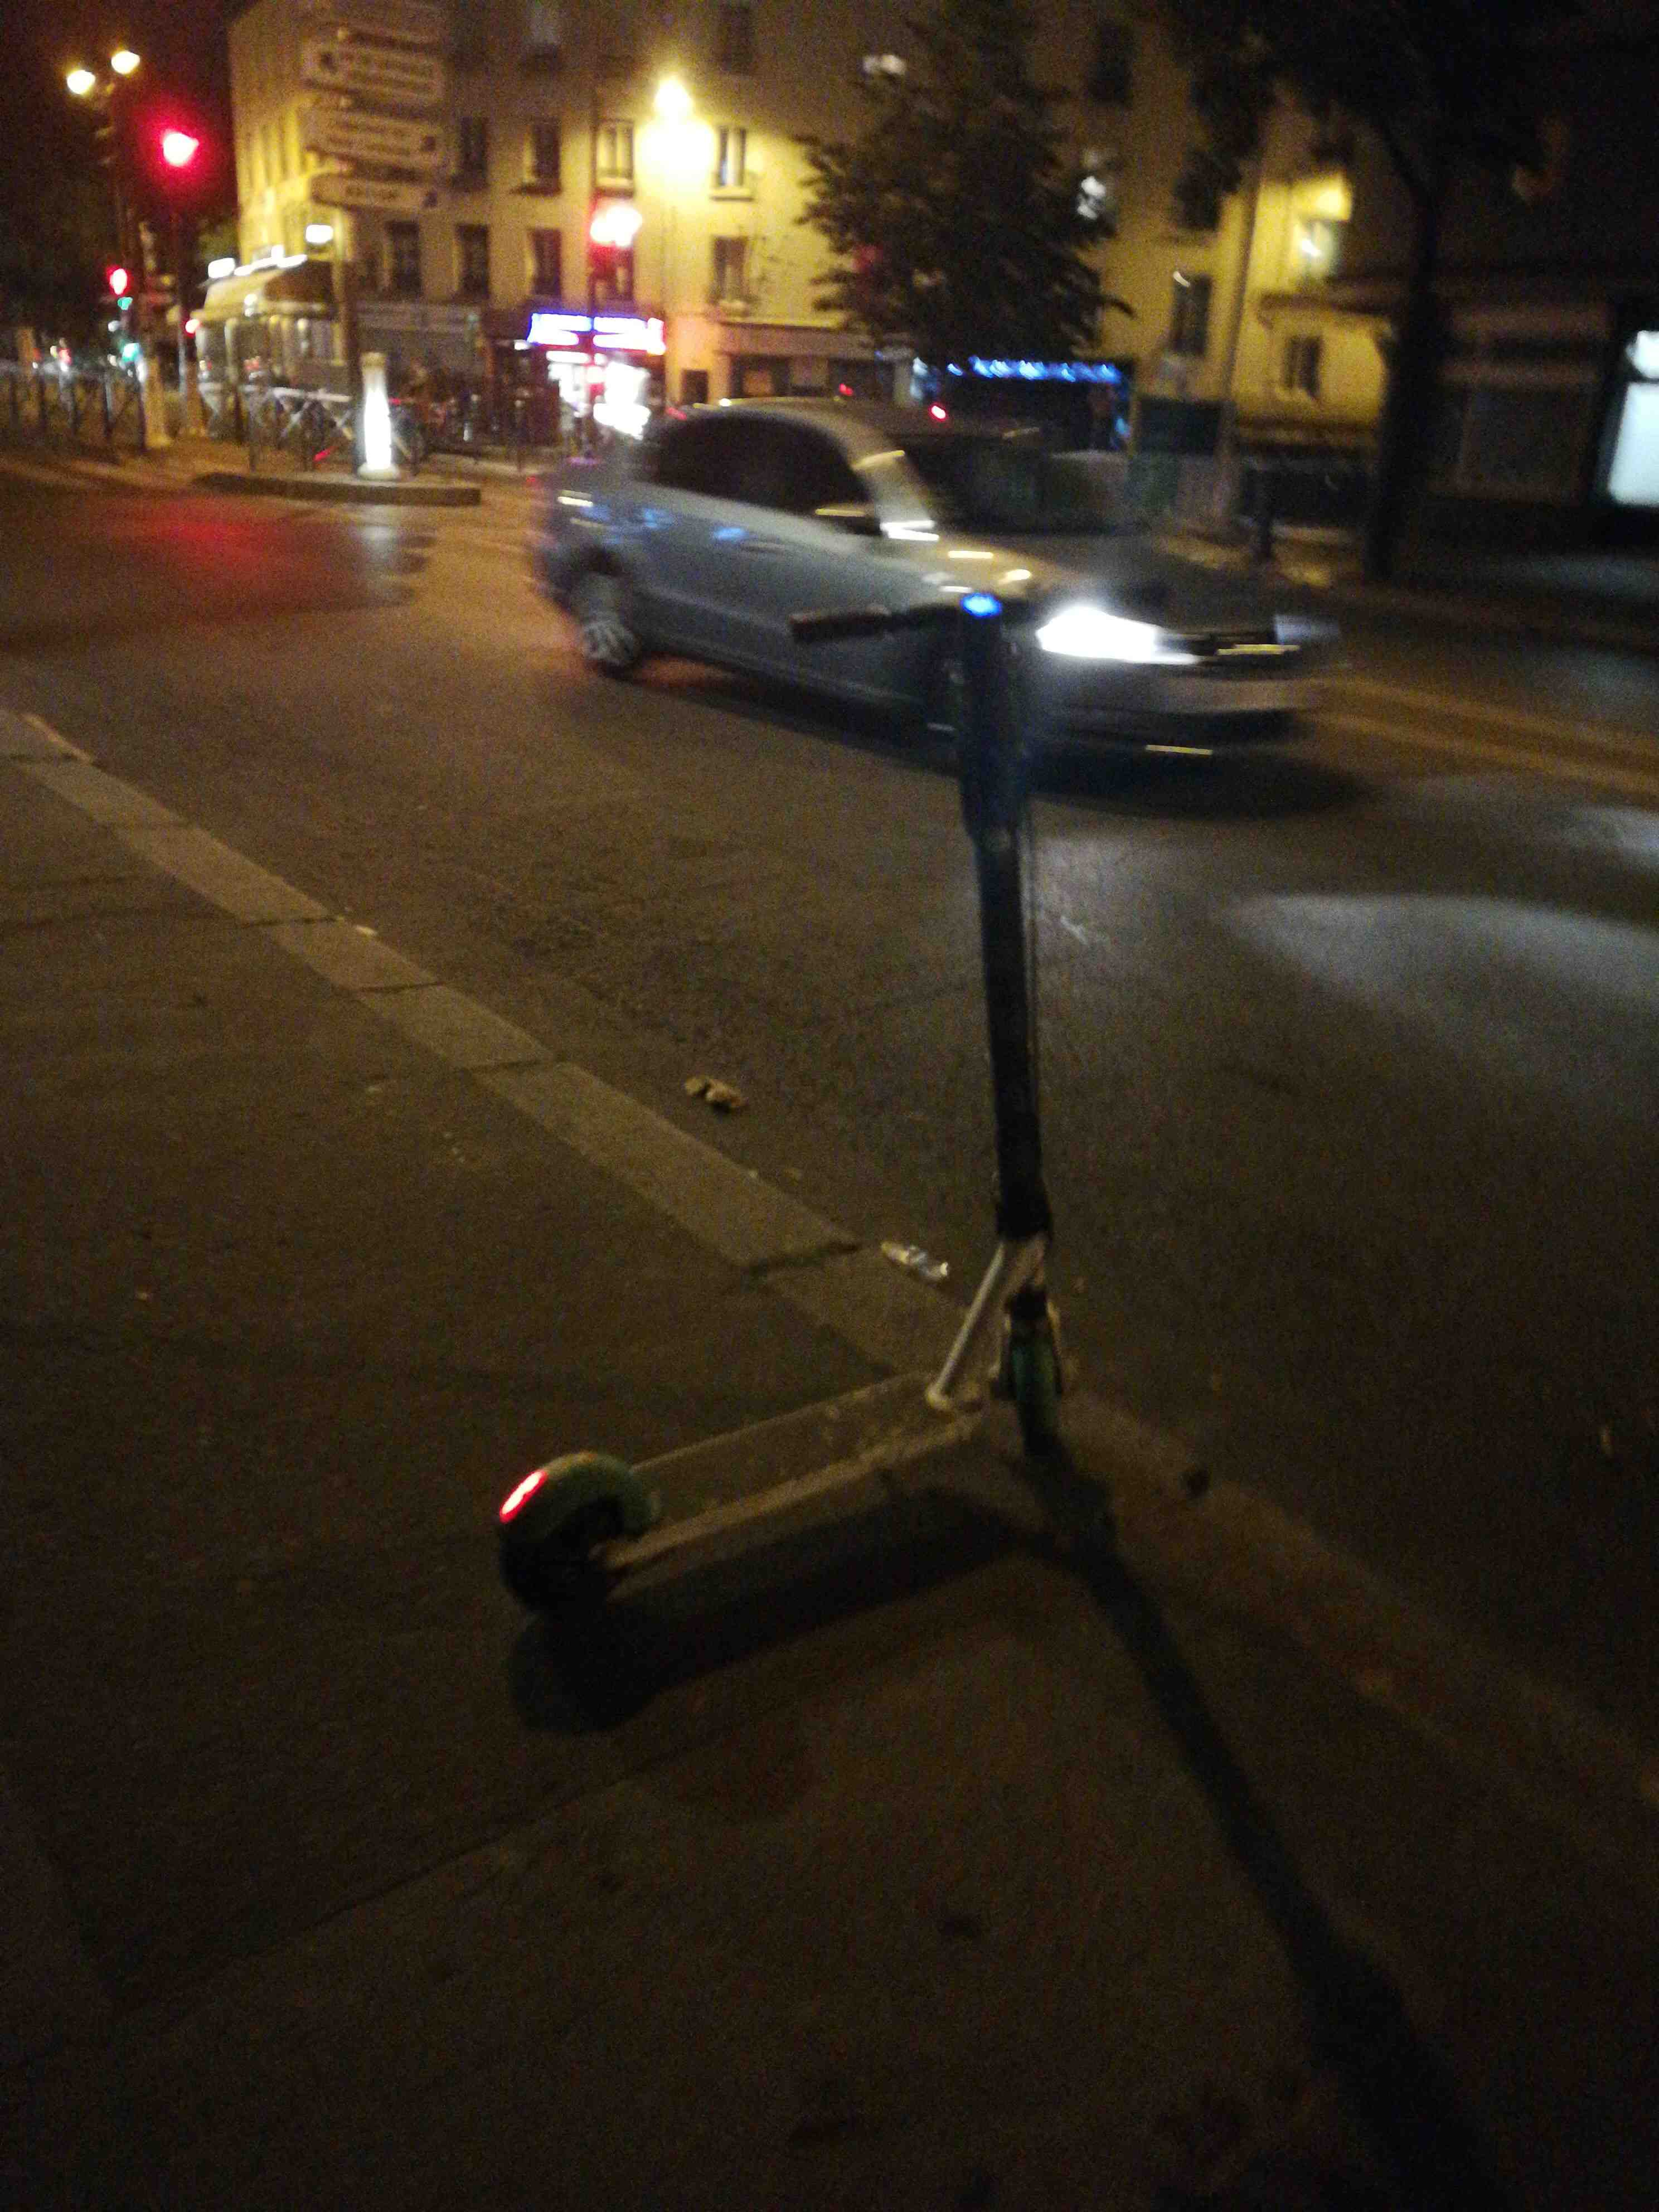too close: (871, 1226, 1166, 1534)
